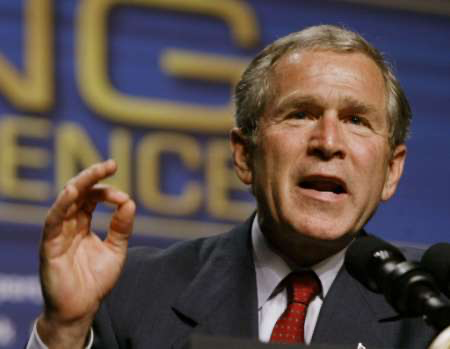Face: (264, 59, 384, 240)
